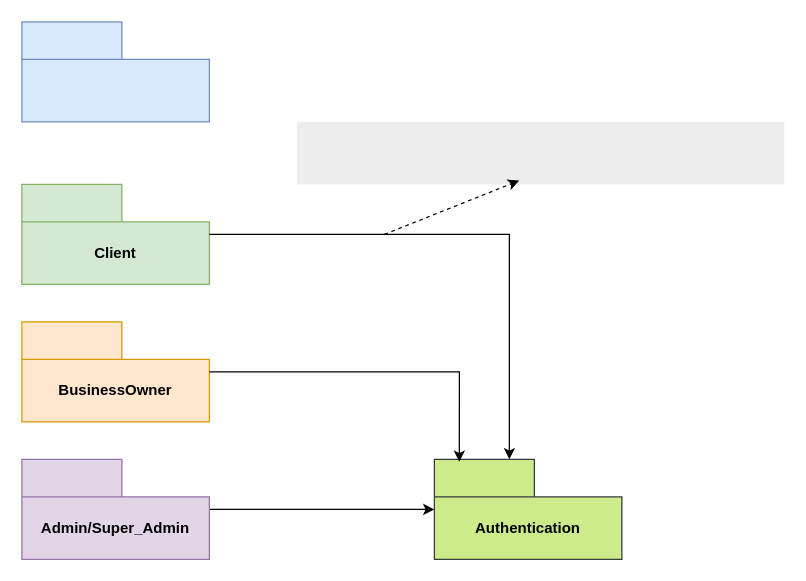
Some shapes in this 806 by 581 pixel diagram are drawn without their labels. The shapes that lost their labels are listed below. From the top down, each one's centre as x and y in pixels, then its label:
At (115,71): "Internaute".
At (540,152): "Dependance entre paquetage qui reflete l'inclusion des cas d'utilisation".
